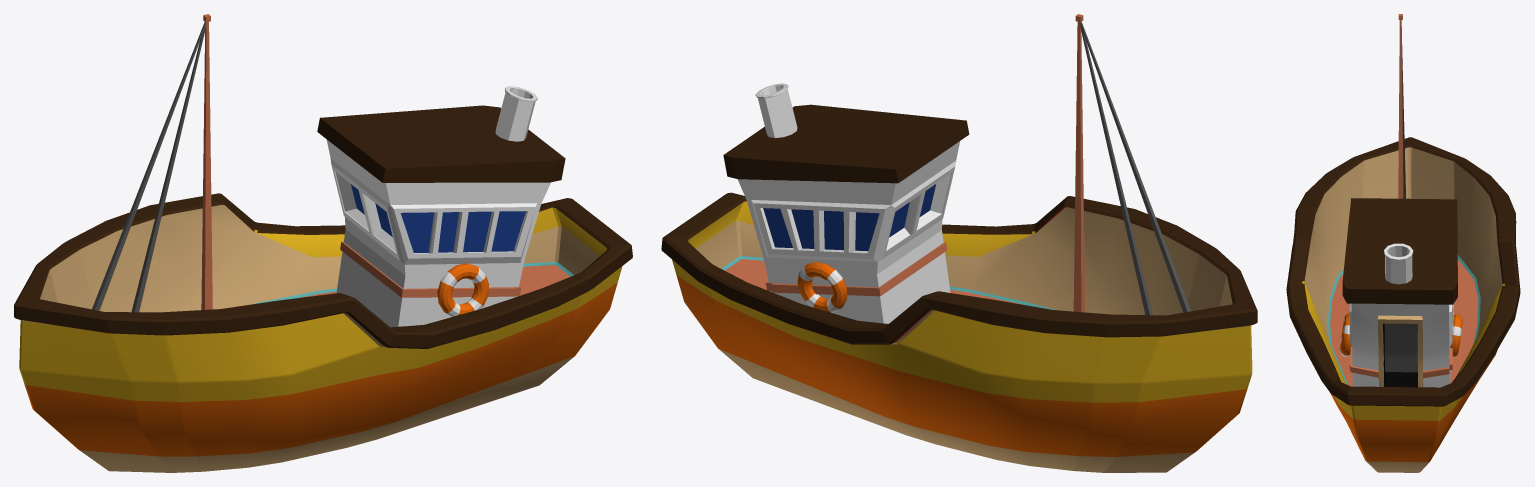
File: Yellow boat_no flag.fbx
The picture shows the model from 3 angles, left to right: view 1: azimuth 30°, elevation 25°; view 2: azimuth 150°, elevation 25°; view 3: azimuth 270°, elevation 25°; orthographic projection. The views are drawn at different scales.
Visible parts, largest first — view 1: pasted__pCube15; view 2: pasted__pCube15; view 3: pasted__pCube15.
Boxes of the visible parts, x1,y1,x2,y2 form: pasted__pCube15: (14, 14, 632, 472); pasted__pCube15: (661, 14, 1257, 472); pasted__pCube15: (1286, 14, 1520, 472).
Size of the model in its own units: 1.72 by 1.24 by 0.7769.
